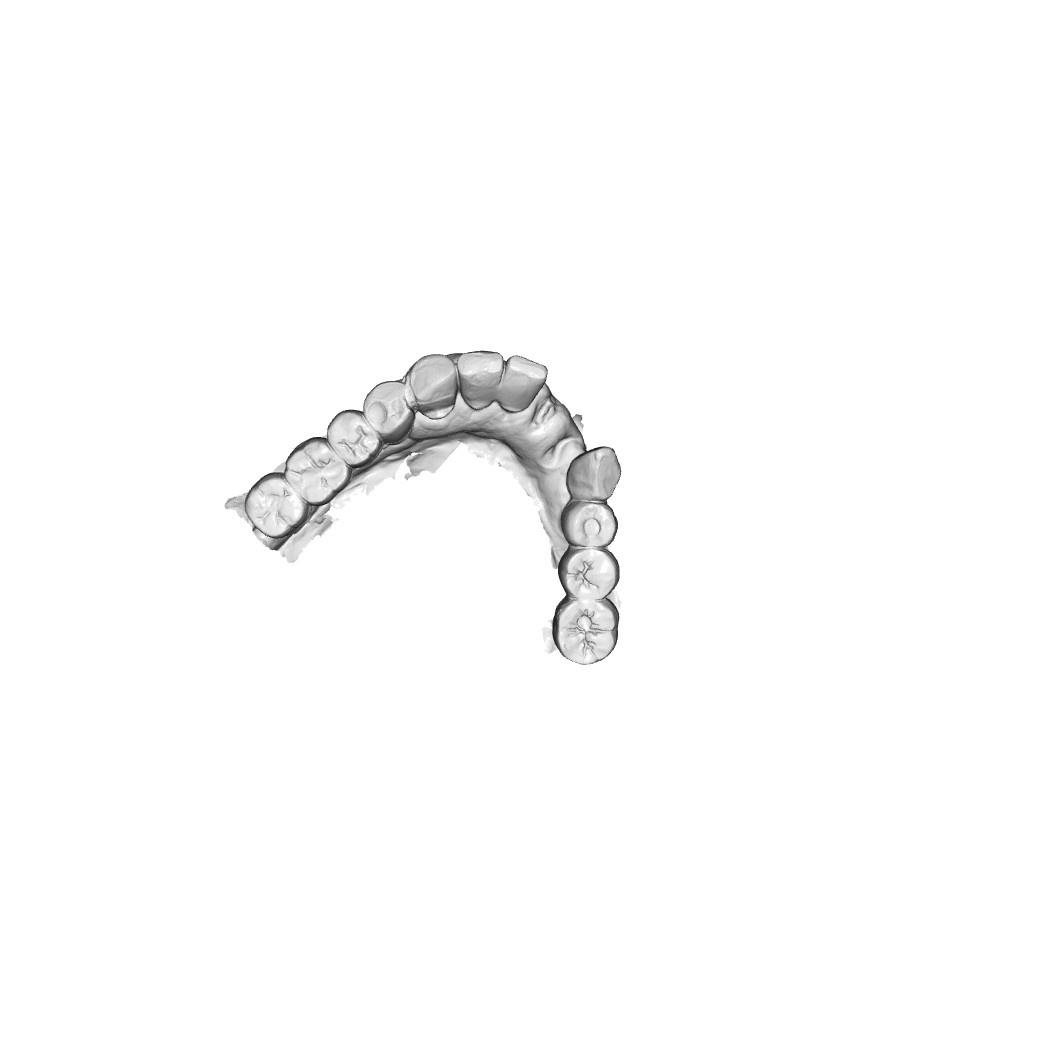canine: (409, 356, 457, 413), (569, 447, 622, 496)
incisor: (501, 356, 546, 418), (456, 352, 501, 409)
molar: (239, 473, 307, 538), (286, 439, 349, 503), (556, 601, 619, 664)
premolar: (363, 382, 416, 438), (328, 407, 376, 468), (563, 550, 620, 598), (564, 501, 621, 545)
